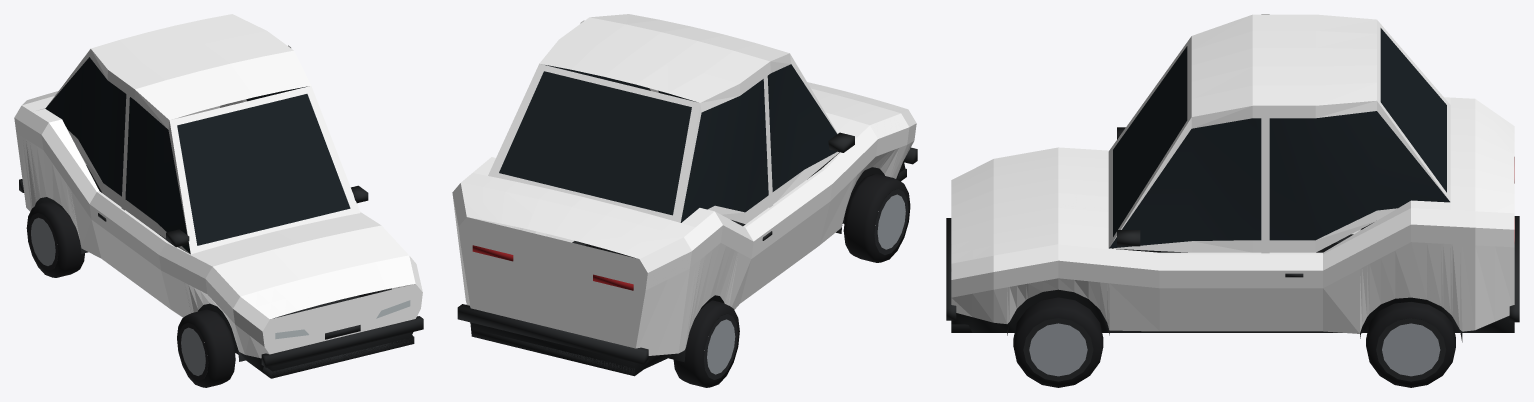
File: ottavo_broto.glb
3 renders of one model, left to right at view 1: azimuth 30°, elevation 25°; view 2: azimuth 150°, elevation 25°; view 3: azimuth 270°, elevation 25°, orthographic. The views are drawn at different scales.
Visible parts, largest first — view 1: Body_Paint, Body_Details, Mount_FrontLeft_Wheel_Details, Mount_RearLeft_Wheel_Details; view 2: Body_Paint, Body_Details, Mount_FrontLeft_Wheel_Details, Mount_RearLeft_Wheel_Details; view 3: Body_Paint, Body_Details, Mount_FrontRight_Wheel_Details, Mount_RearRight_Wheel_Details.
Boxes of the visible parts, x1,y1,x2,y2 form: Body_Paint: (14,14,422,358); Body_Details: (19,57,423,378); Mount_FrontLeft_Wheel_Details: (177,309,235,387); Mount_RearLeft_Wheel_Details: (26,201,84,277); Body_Paint: (452,14,916,355); Body_Details: (457,64,917,376); Mount_FrontLeft_Wheel_Details: (843,174,910,262); Mount_RearLeft_Wheel_Details: (673,300,739,387); Body_Paint: (951,14,1514,333); Body_Details: (946,28,1519,342); Mount_FrontRight_Wheel_Details: (1013,297,1103,387); Mount_RearRight_Wheel_Details: (1366,302,1455,387).
Bounding box in the file's own units: 1.59 × 1.68 × 3.18.
2 materials, 1 textured.
